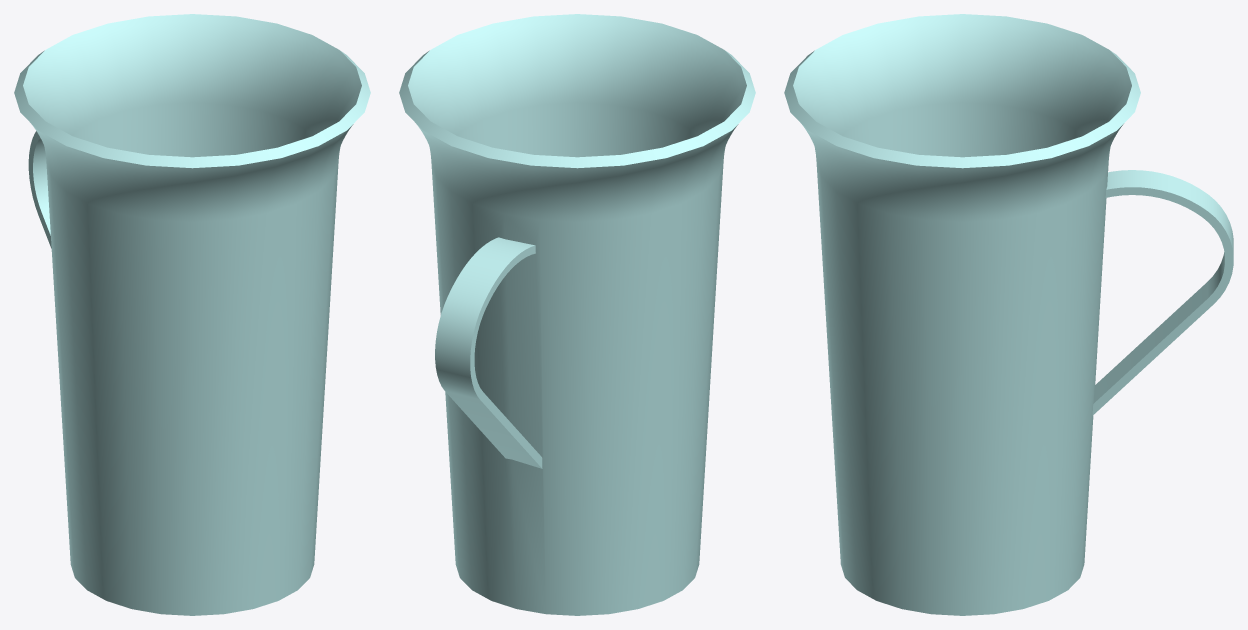
3 renders of one model, left to right at view 1: azimuth 30°, elevation 25°; view 2: azimuth 150°, elevation 25°; view 3: azimuth 270°, elevation 25°, orthographic.
Parts seen in each view (by area): view 1: mesh1_mesh1-geometry; view 2: mesh1_mesh1-geometry; view 3: mesh1_mesh1-geometry.
Boxes of the visible parts, x1=… form: mesh1_mesh1-geometry: x1=14, y1=14, x2=370, y2=615; mesh1_mesh1-geometry: x1=399, y1=14, x2=755, y2=615; mesh1_mesh1-geometry: x1=784, y1=14, x2=1233, y2=615.
Size of the model in its own units: 0.4573 by 0.6774 by 0.5762.
